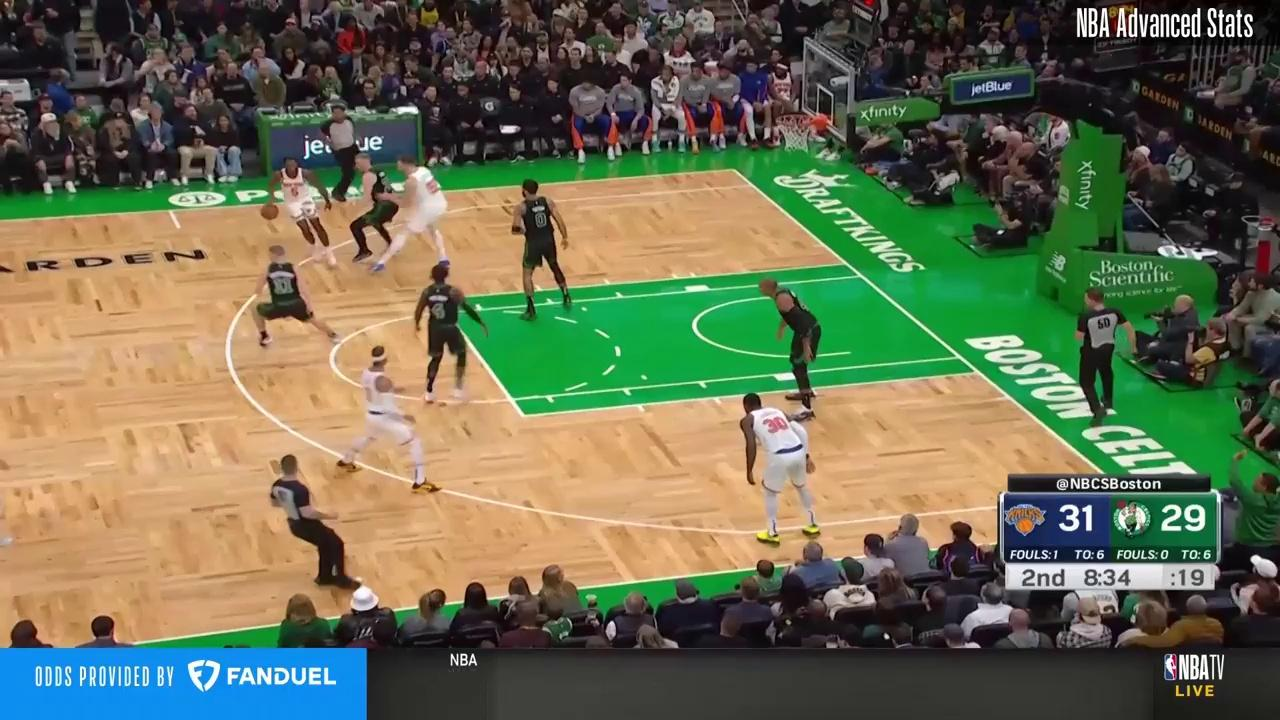3_sx: (748, 181, 757, 190)
b_sx: (729, 165, 740, 175)
free_adx: (518, 411, 529, 420)
free_bdx: (972, 366, 983, 376)
free_bsx: (842, 260, 852, 268)
mid_dx: (353, 573, 362, 582)
mid_sx: (174, 225, 184, 232)
referee: (270, 456, 361, 590), (1074, 284, 1135, 428), (317, 103, 365, 200)
team: (417, 267, 490, 401), (509, 179, 573, 319), (254, 245, 341, 344), (759, 277, 822, 400), (347, 155, 401, 266)
team1: (337, 347, 439, 495), (739, 392, 821, 543), (374, 156, 449, 271), (270, 156, 336, 265)
timer: (1080, 563, 1132, 592)
